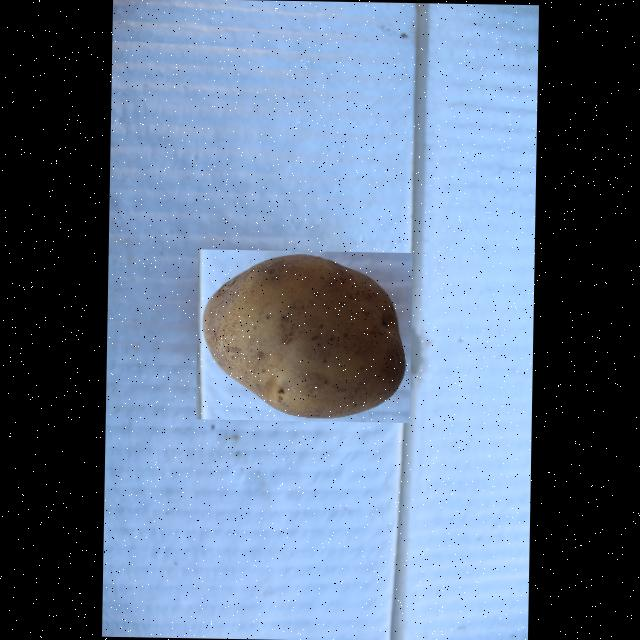Diseased-fungal potato: (195, 248, 412, 422)
